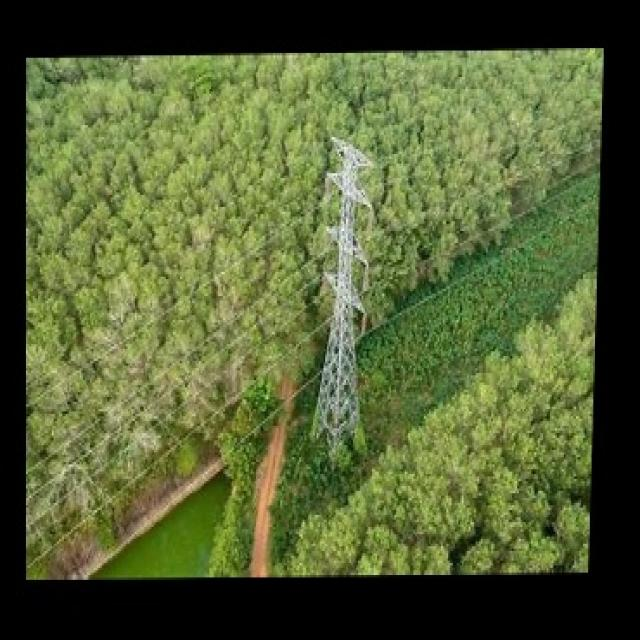utility poles: (302, 106, 388, 464)
